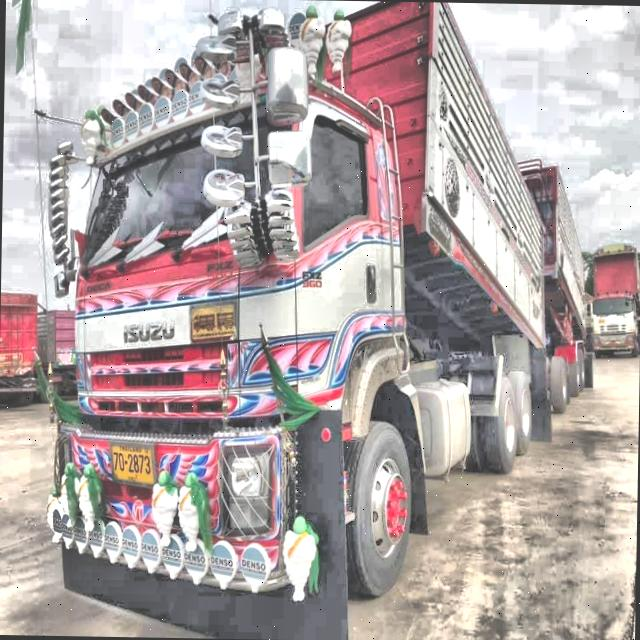trailer: (42, 0, 601, 617)
